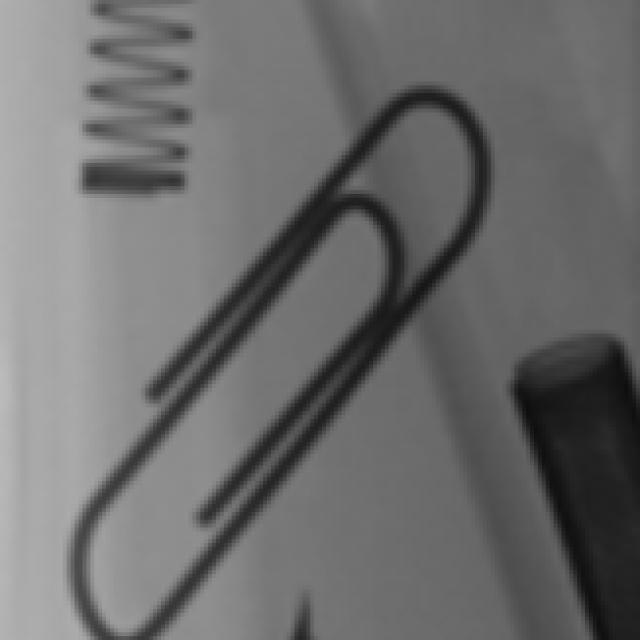SHURIKEN: (274, 577, 334, 640)
